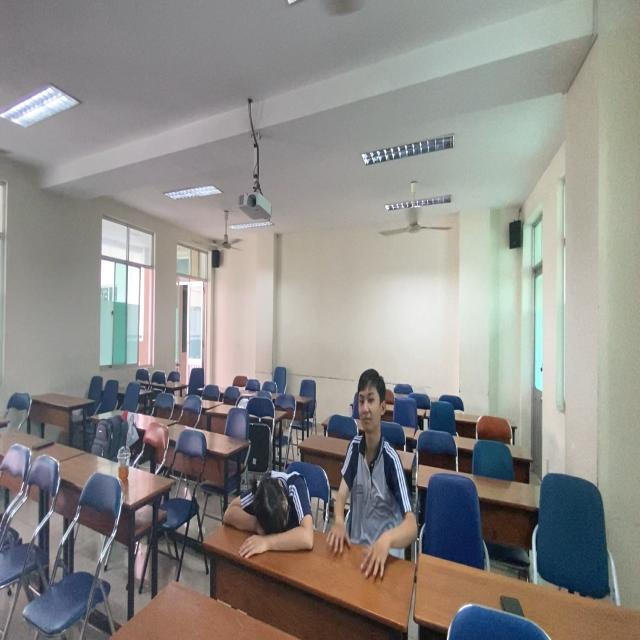sleep: (217, 463, 319, 573)
